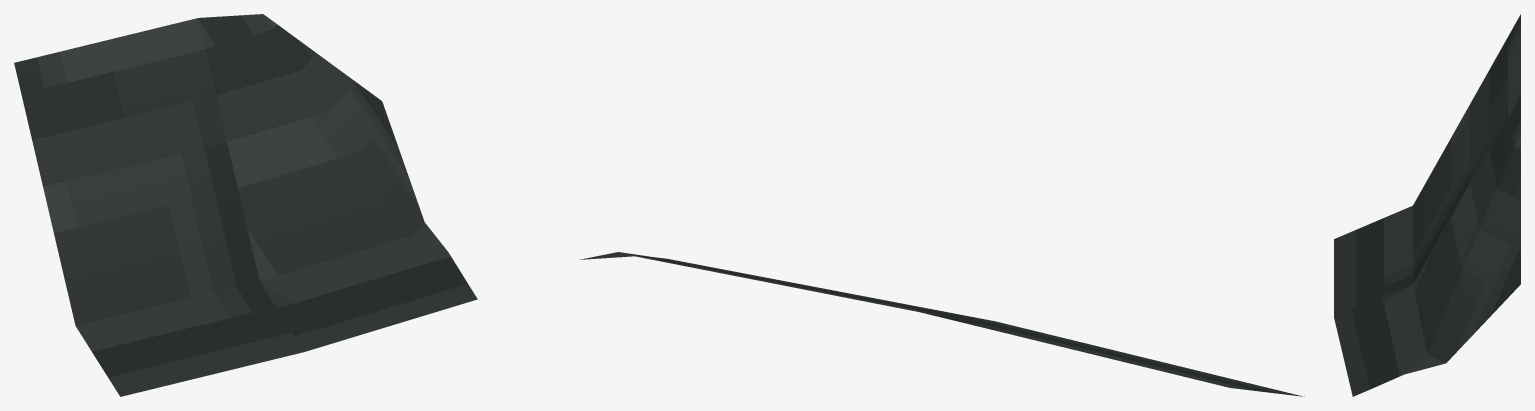
3 renders of one model, left to right at view 1: azimuth 30°, elevation 25°; view 2: azimuth 150°, elevation 25°; view 3: azimuth 270°, elevation 25°, orthographic. The views are drawn at different scales.
Bounding box in the file's own units: 1 × 0.6652 × 0.5.
Materials: 2 (2 with a texture image).
